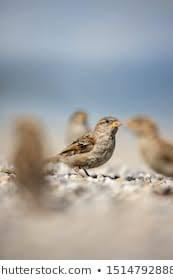home_sparrow: (38, 110, 122, 181)
